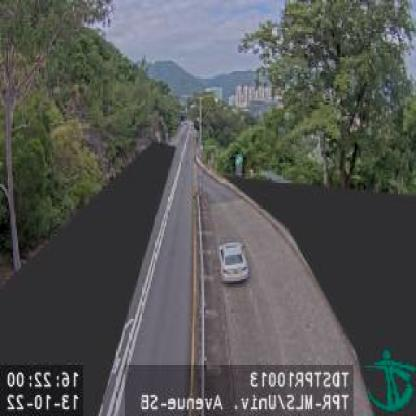Car: (217, 238, 251, 284)
